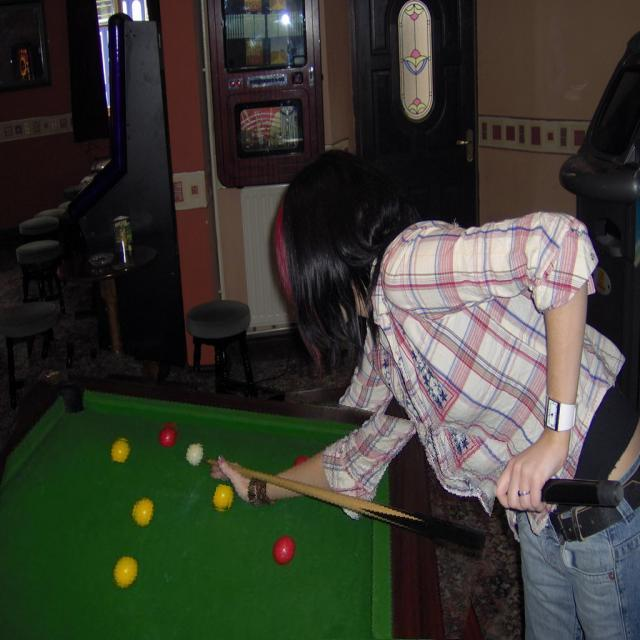Ball: (129, 582, 154, 612), (280, 526, 303, 556), (136, 521, 155, 551), (210, 490, 228, 516), (100, 470, 118, 493), (174, 458, 192, 476), (144, 446, 160, 466), (282, 444, 294, 456)
Billiard table: (0, 360, 496, 640)
